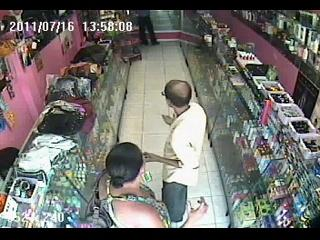Normal: (86, 142, 212, 227), (146, 80, 208, 225), (134, 10, 160, 46)
